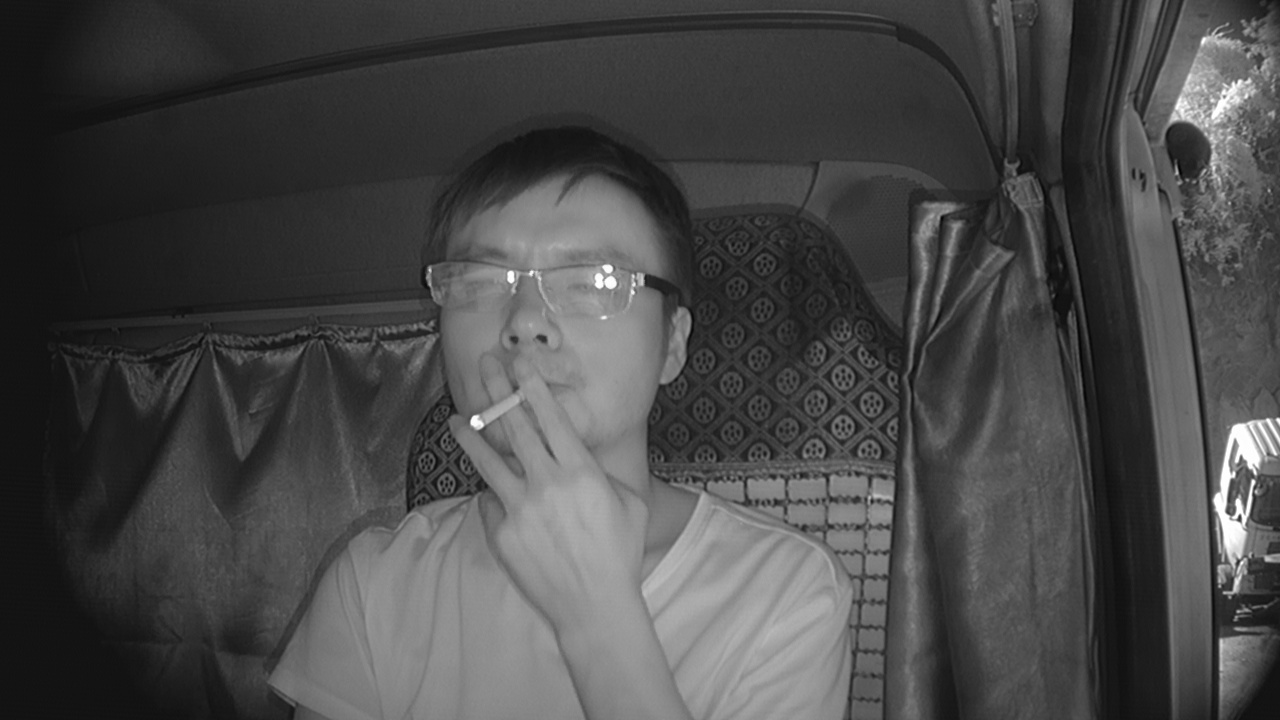hand: (454, 357, 623, 569)
